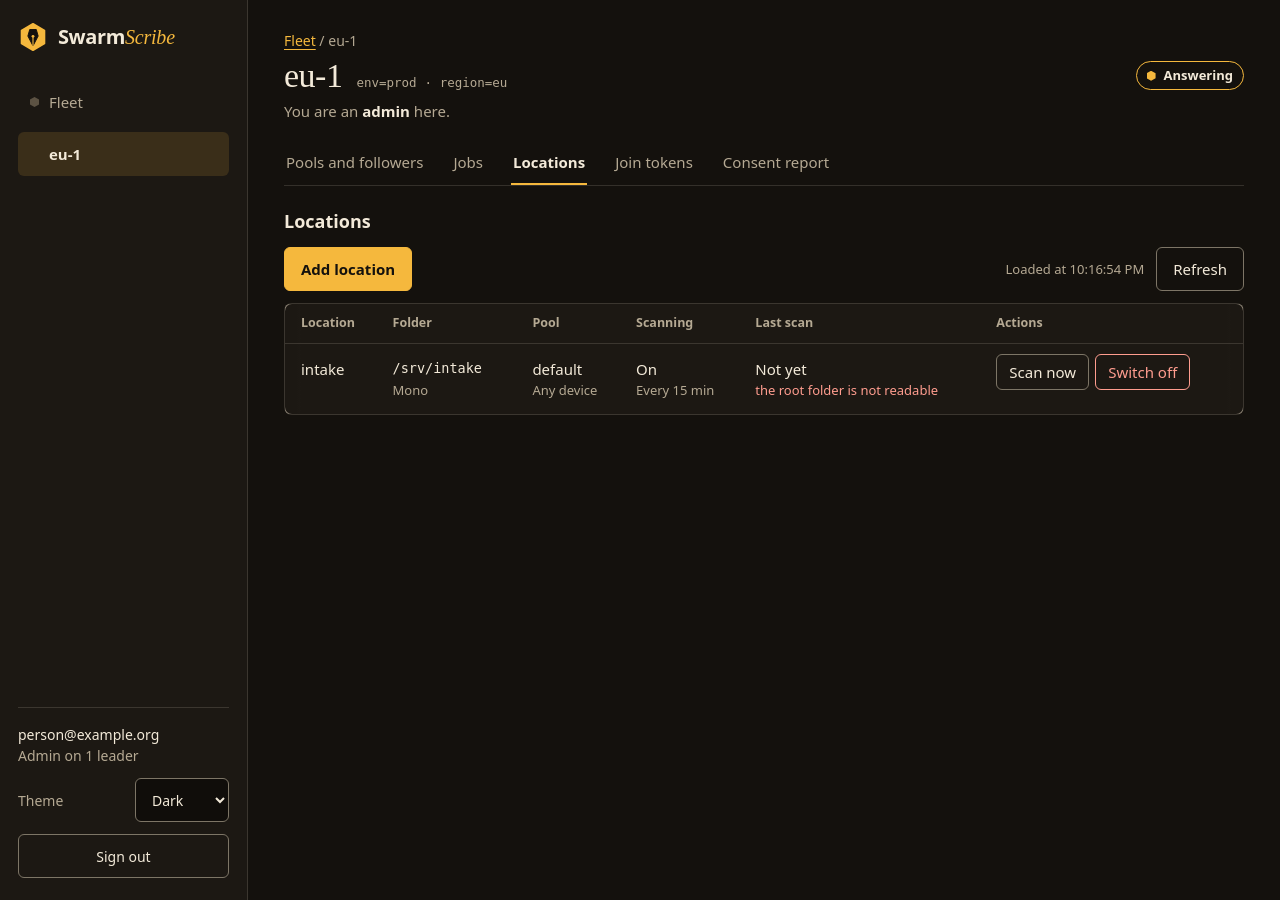
locations tab › shows the leader's own refusal in the dialog and keeps it open
This screenshot has width=1280, height=900.
Click the button "Add location" at (348, 269), box [284,247,412,291]
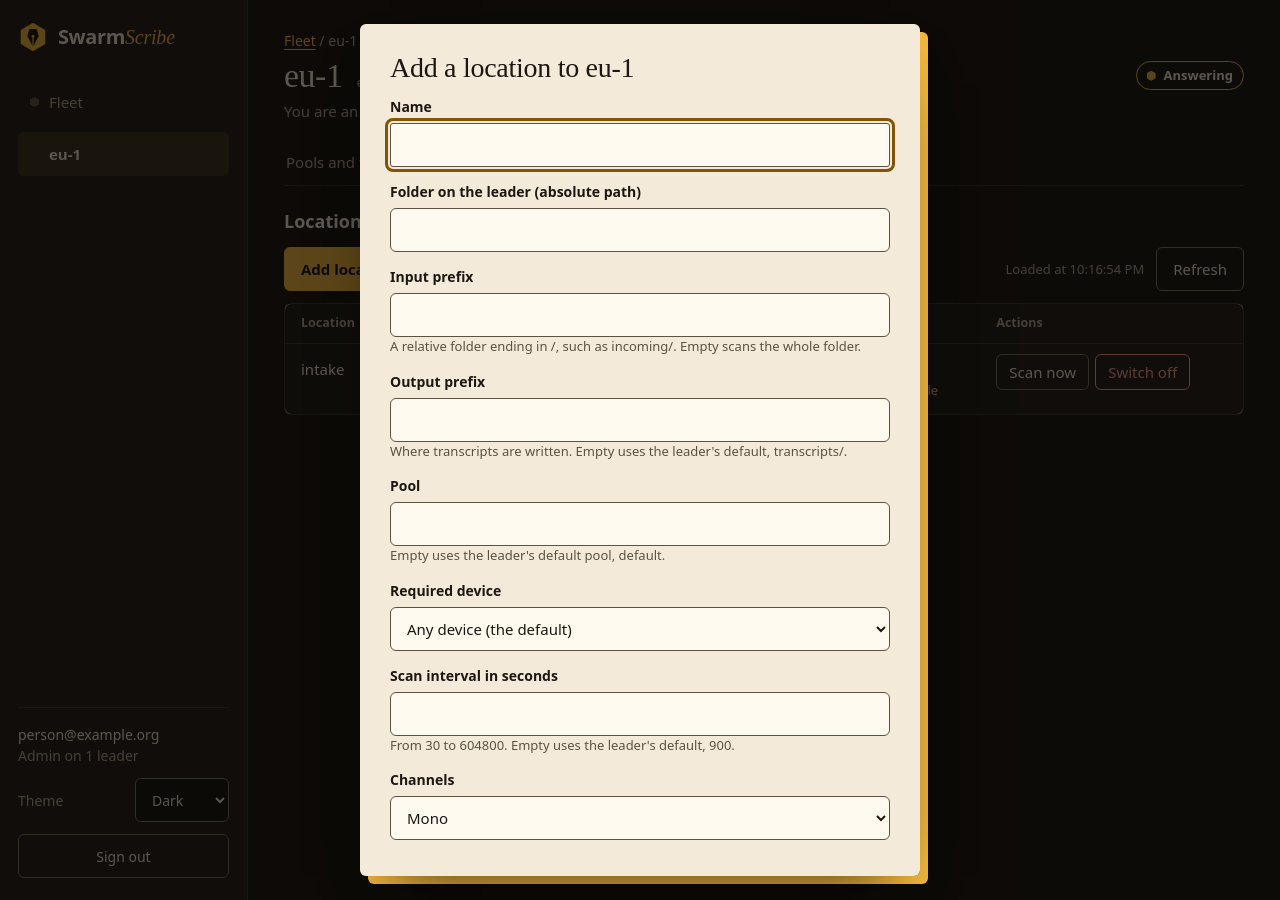
Type "calls" into the field labelled "Name" at (640, 145), box [390,123,890,167]
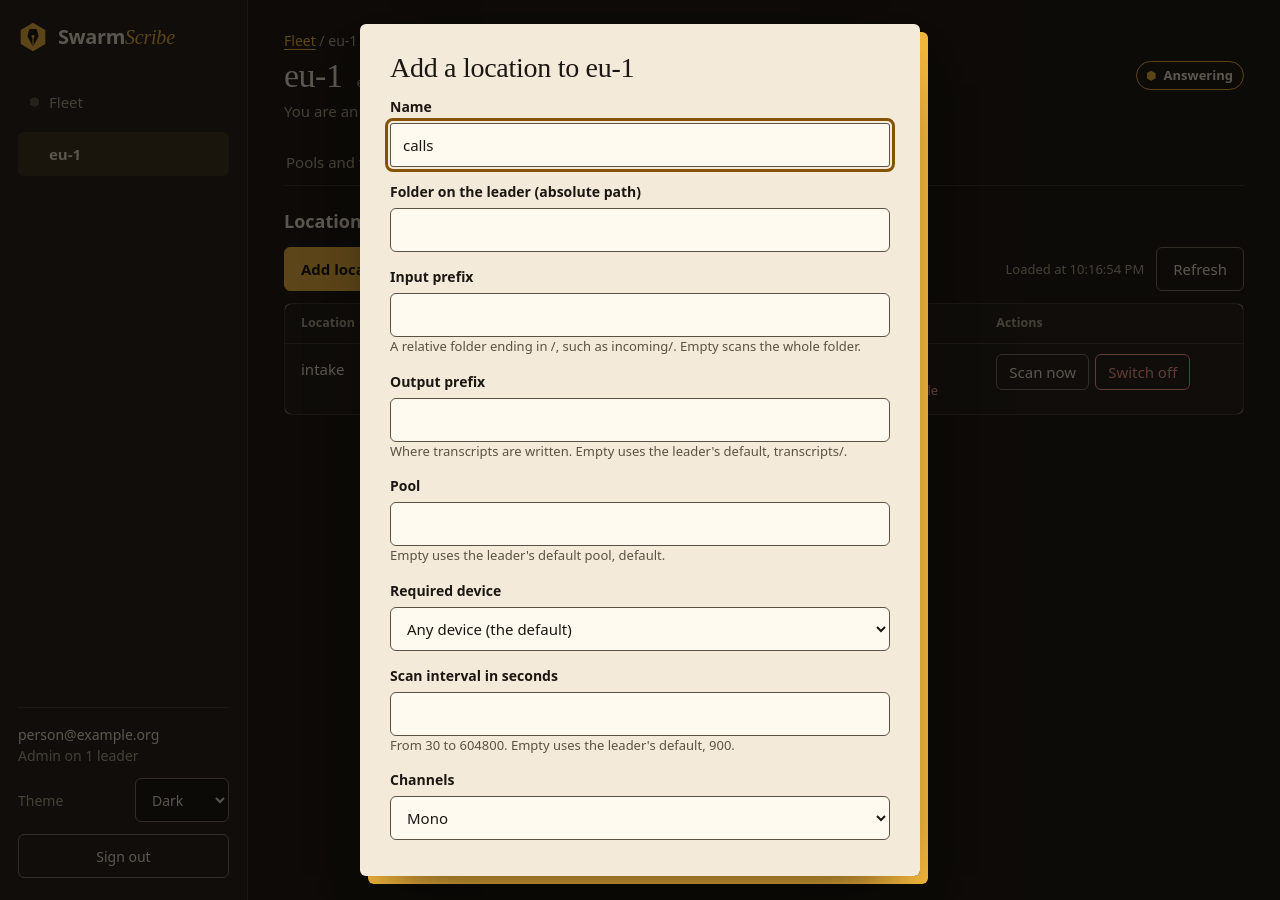
Type "/srv/calls" into the field labelled "Folder on the leader (absolute path)" at (640, 230), box [390,208,890,252]
(page scrolled)
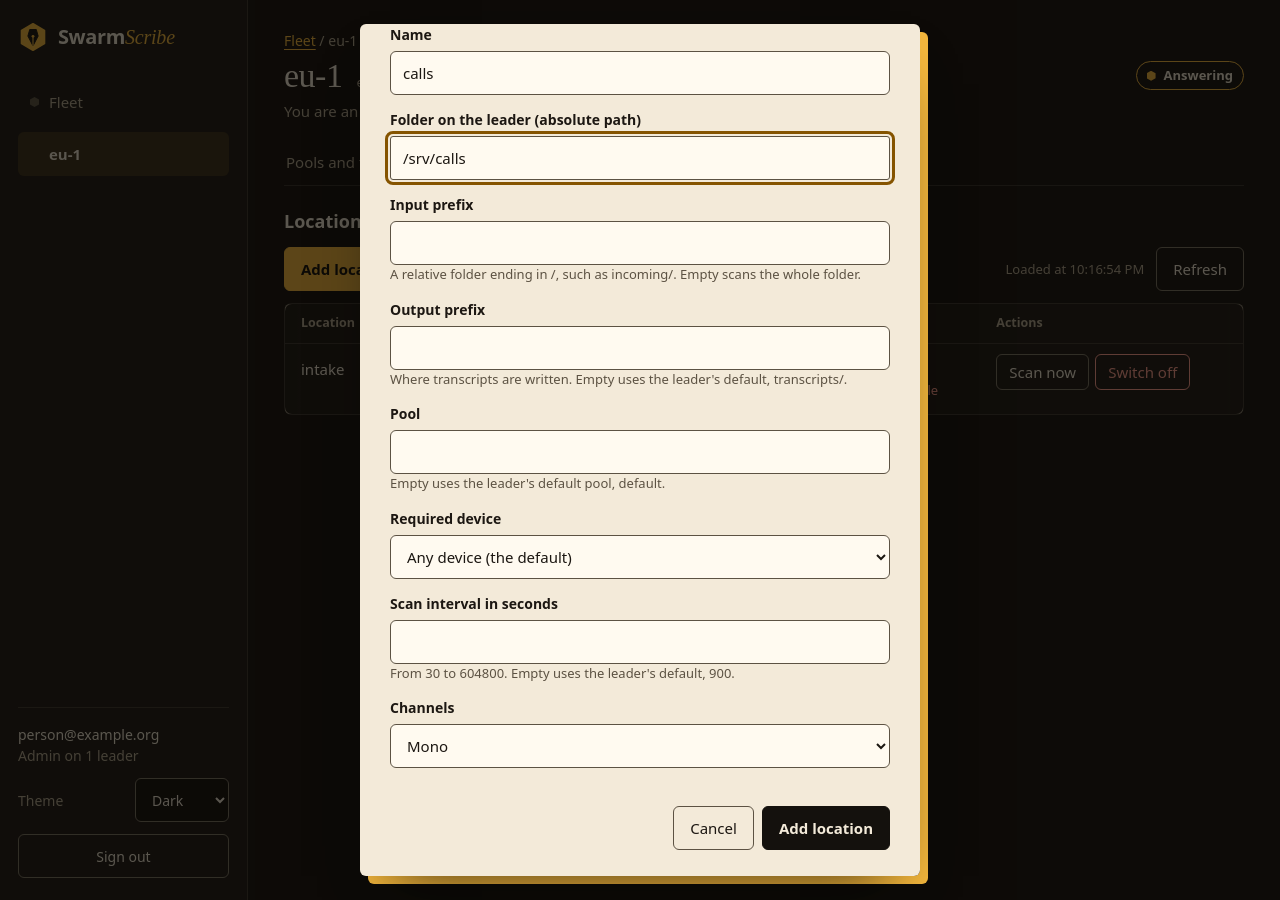
Click the button "Add location" at (826, 828), box [762,806,890,850]
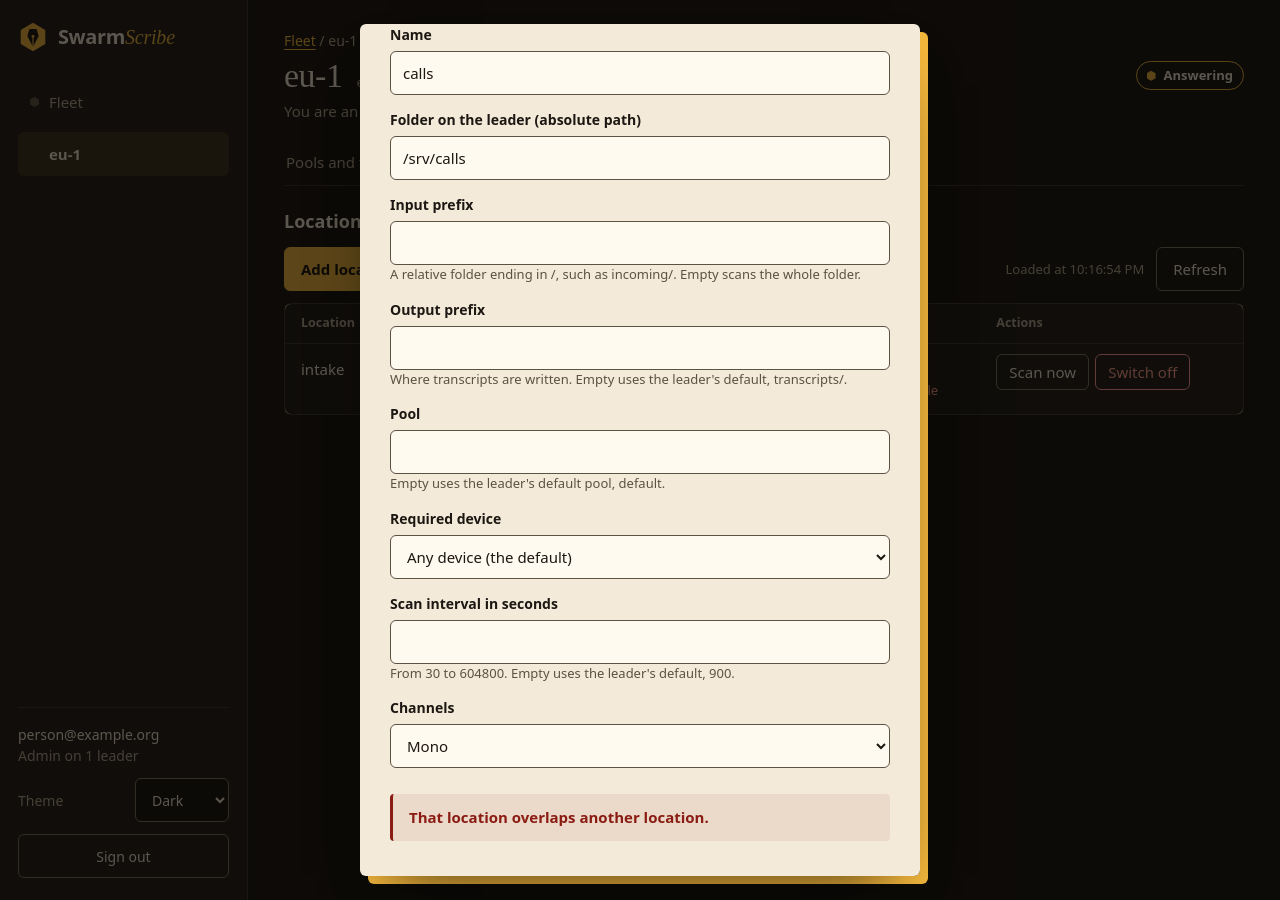
Expected: the message reads "That location overlaps another location.", [409,807,709,827]
